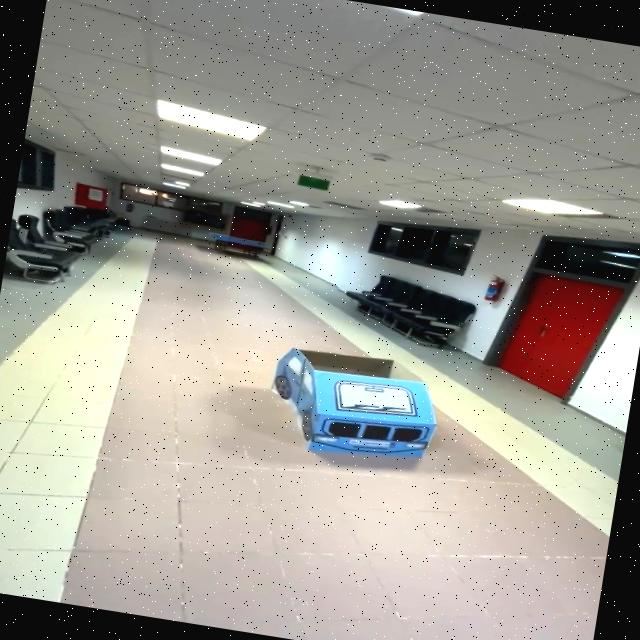blue_car: (252, 329, 474, 486)
